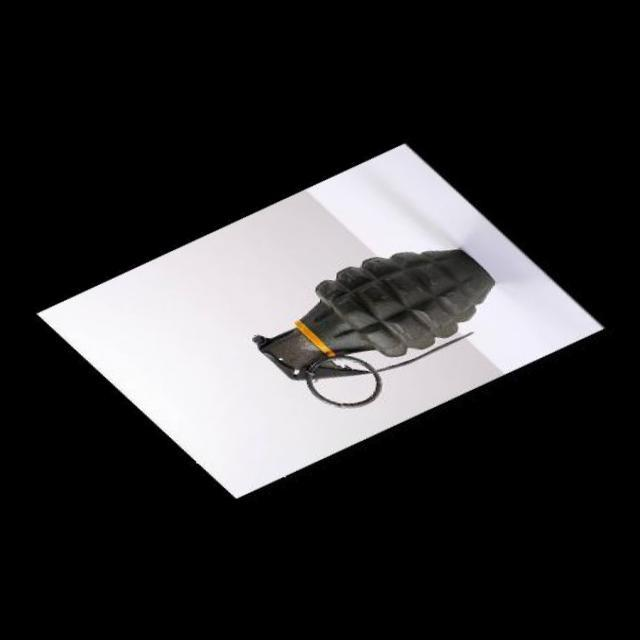grenade: (228, 211, 510, 438)
